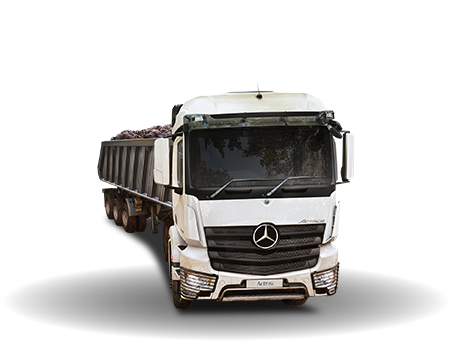truck: (97, 90, 354, 311)
